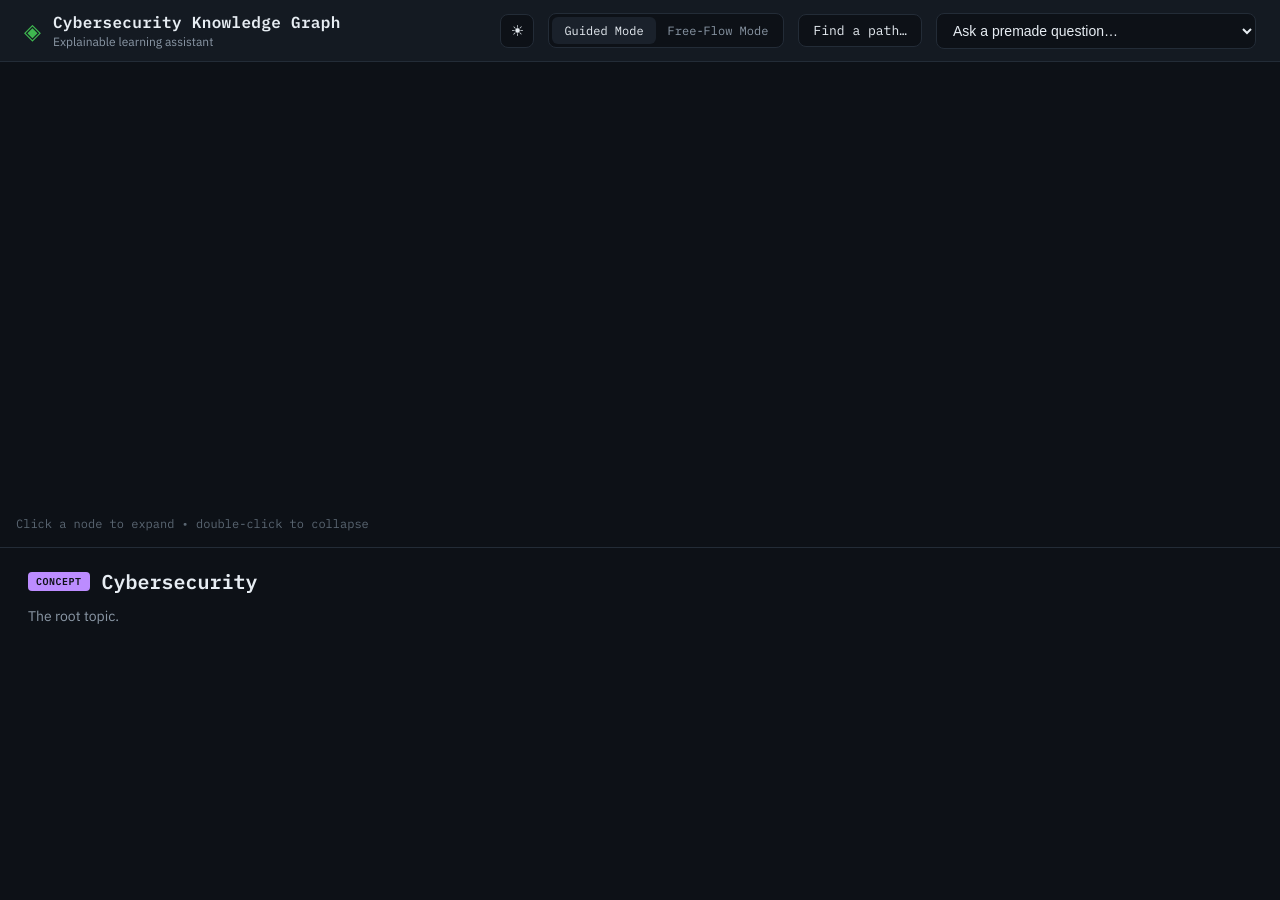
App smoke test › shows the search bar only after switching to Free-Flow Mode
Expected: the field with placeholder "Search any concept" is not shown
Click the button "Free-Flow Mode" at x=718, y=30, box [656, 17, 780, 44]
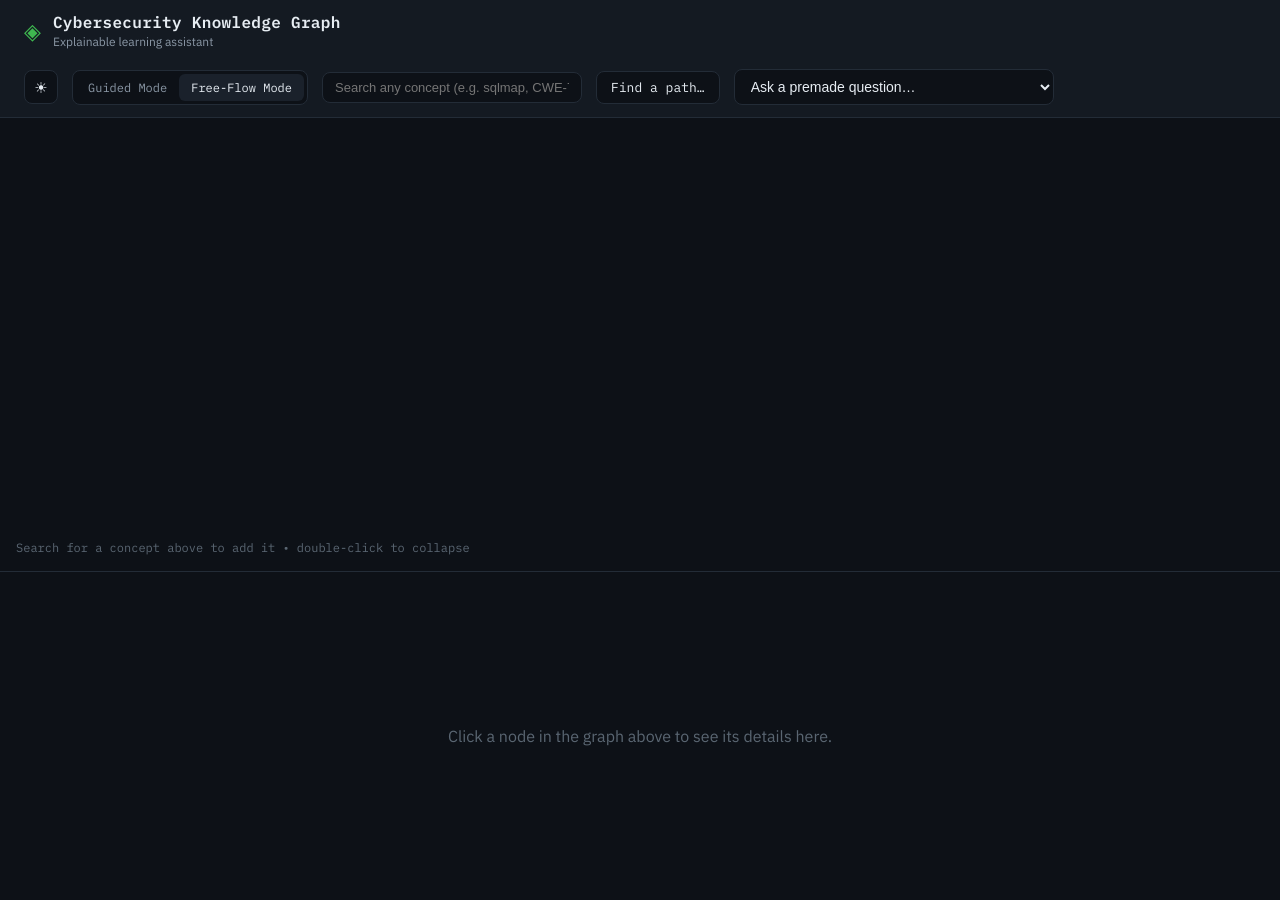
Result: the field with placeholder "Search any concept (e.g. sqlmap, CWE-79)…" is shown at [322, 72, 582, 102]
